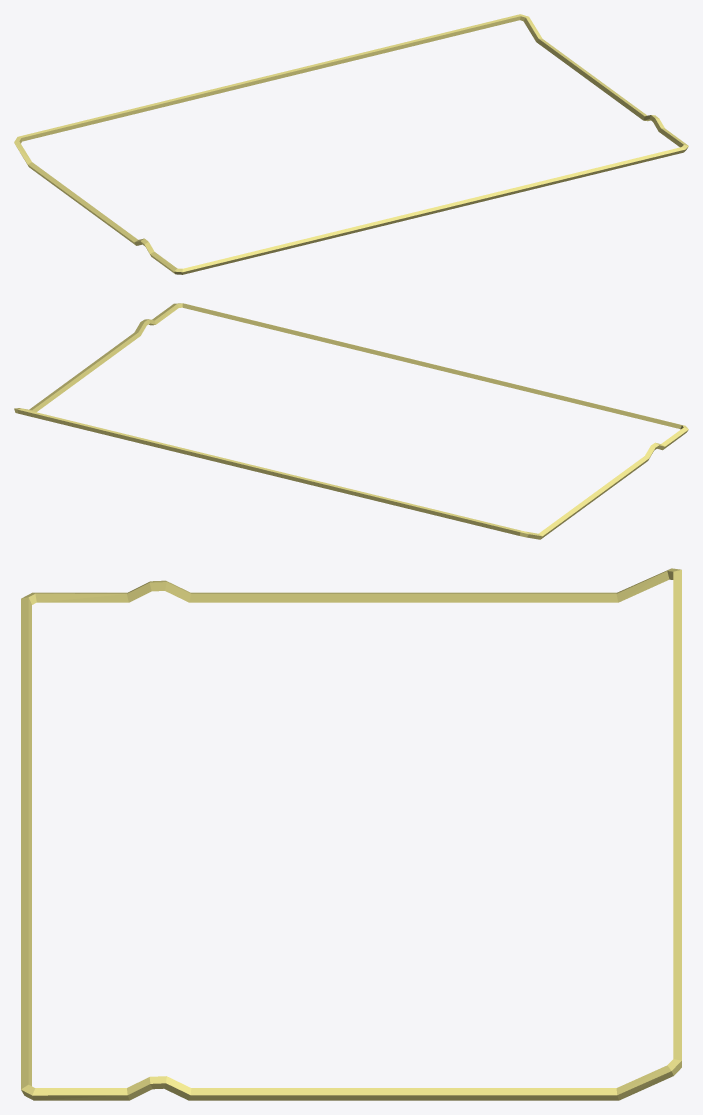
File: original-37.obj
3 renders of one model, top to bottom at view 1: azimuth 30°, elevation 25°; view 2: azimuth 150°, elevation 25°; view 3: azimuth 270°, elevation 25°, orthographic. The views are drawn at different scales.
Parts seen in each view (by area): view 1: mesh91/mesh91-geometry#mesh91-geometry; view 2: mesh91/mesh91-geometry#mesh91-geometry; view 3: mesh91/mesh91-geometry#mesh91-geometry.
Boxes of the visible parts, <box> form: mesh91/mesh91-geometry#mesh91-geometry: <box>14,14,688,274</box>; mesh91/mesh91-geometry#mesh91-geometry: <box>14,303,688,539</box>; mesh91/mesh91-geometry#mesh91-geometry: <box>21,568,681,1100</box>.
Bounding box in the file's own units: 1.03 × 0.0344 × 0.5725.
